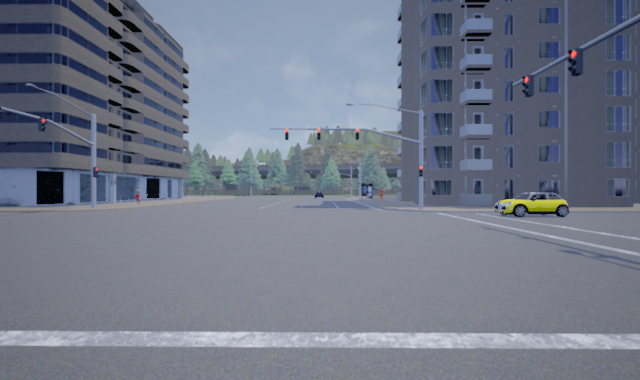pedestrian: (133, 186, 143, 204), (377, 186, 385, 202)
traffic_light: (567, 46, 584, 78), (520, 74, 535, 97), (37, 116, 47, 133), (92, 167, 100, 179), (284, 128, 290, 140), (418, 165, 424, 177), (355, 127, 360, 141), (316, 127, 320, 140)
vehicle: (493, 191, 568, 217), (314, 191, 324, 198)
